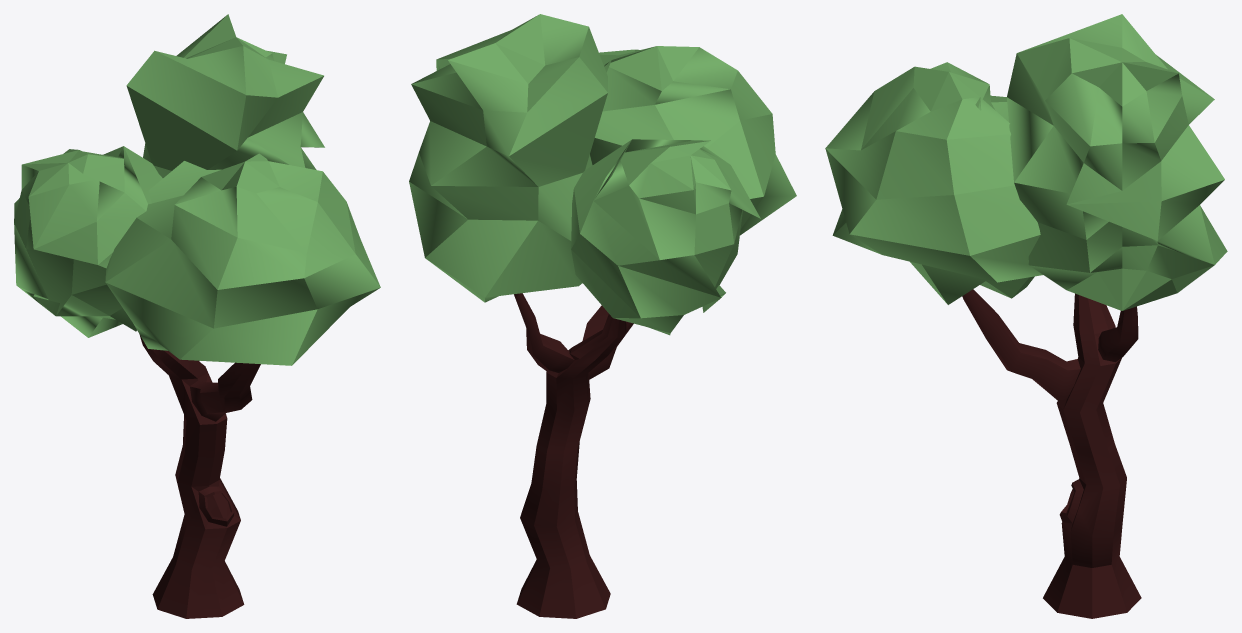
The model's file is 01_treeE_01.fbx.
3 renders of one model, left to right at view 1: azimuth 30°, elevation 25°; view 2: azimuth 150°, elevation 25°; view 3: azimuth 270°, elevation 25°, orthographic. The views are drawn at different scales.
Parts seen in each view (by area): view 1: _treeCopaE_01, _treeTroncoE_01; view 2: _treeCopaE_01, _treeTroncoE_01; view 3: _treeCopaE_01, _treeTroncoE_01.
Part boxes in pixels (left/top/right/bottom): _treeCopaE_01: left=14, top=14, right=380, bottom=365; _treeTroncoE_01: left=139, top=334, right=260, bottom=618; _treeCopaE_01: left=409, top=14, right=796, bottom=335; _treeTroncoE_01: left=514, top=293, right=633, bottom=618; _treeCopaE_01: left=825, top=14, right=1227, bottom=310; _treeTroncoE_01: left=962, top=289, right=1141, bottom=618.
Bounding box in the file's own units: 3.99 × 6.95 × 4.39.
